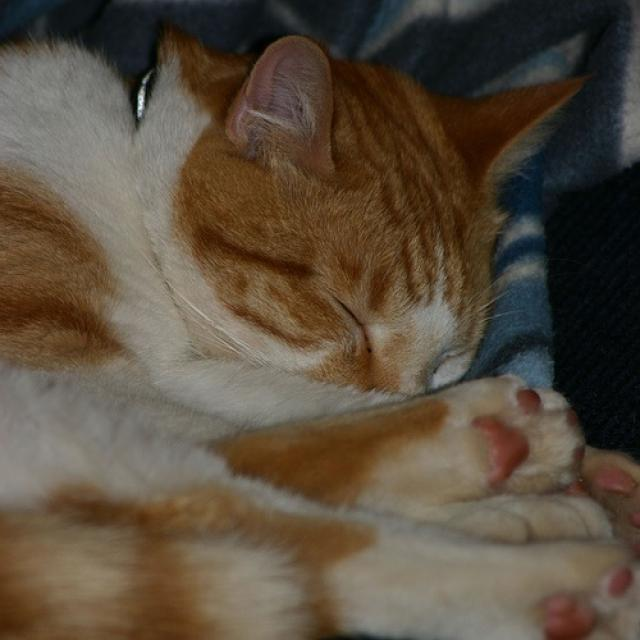cat: (1, 28, 636, 636)
